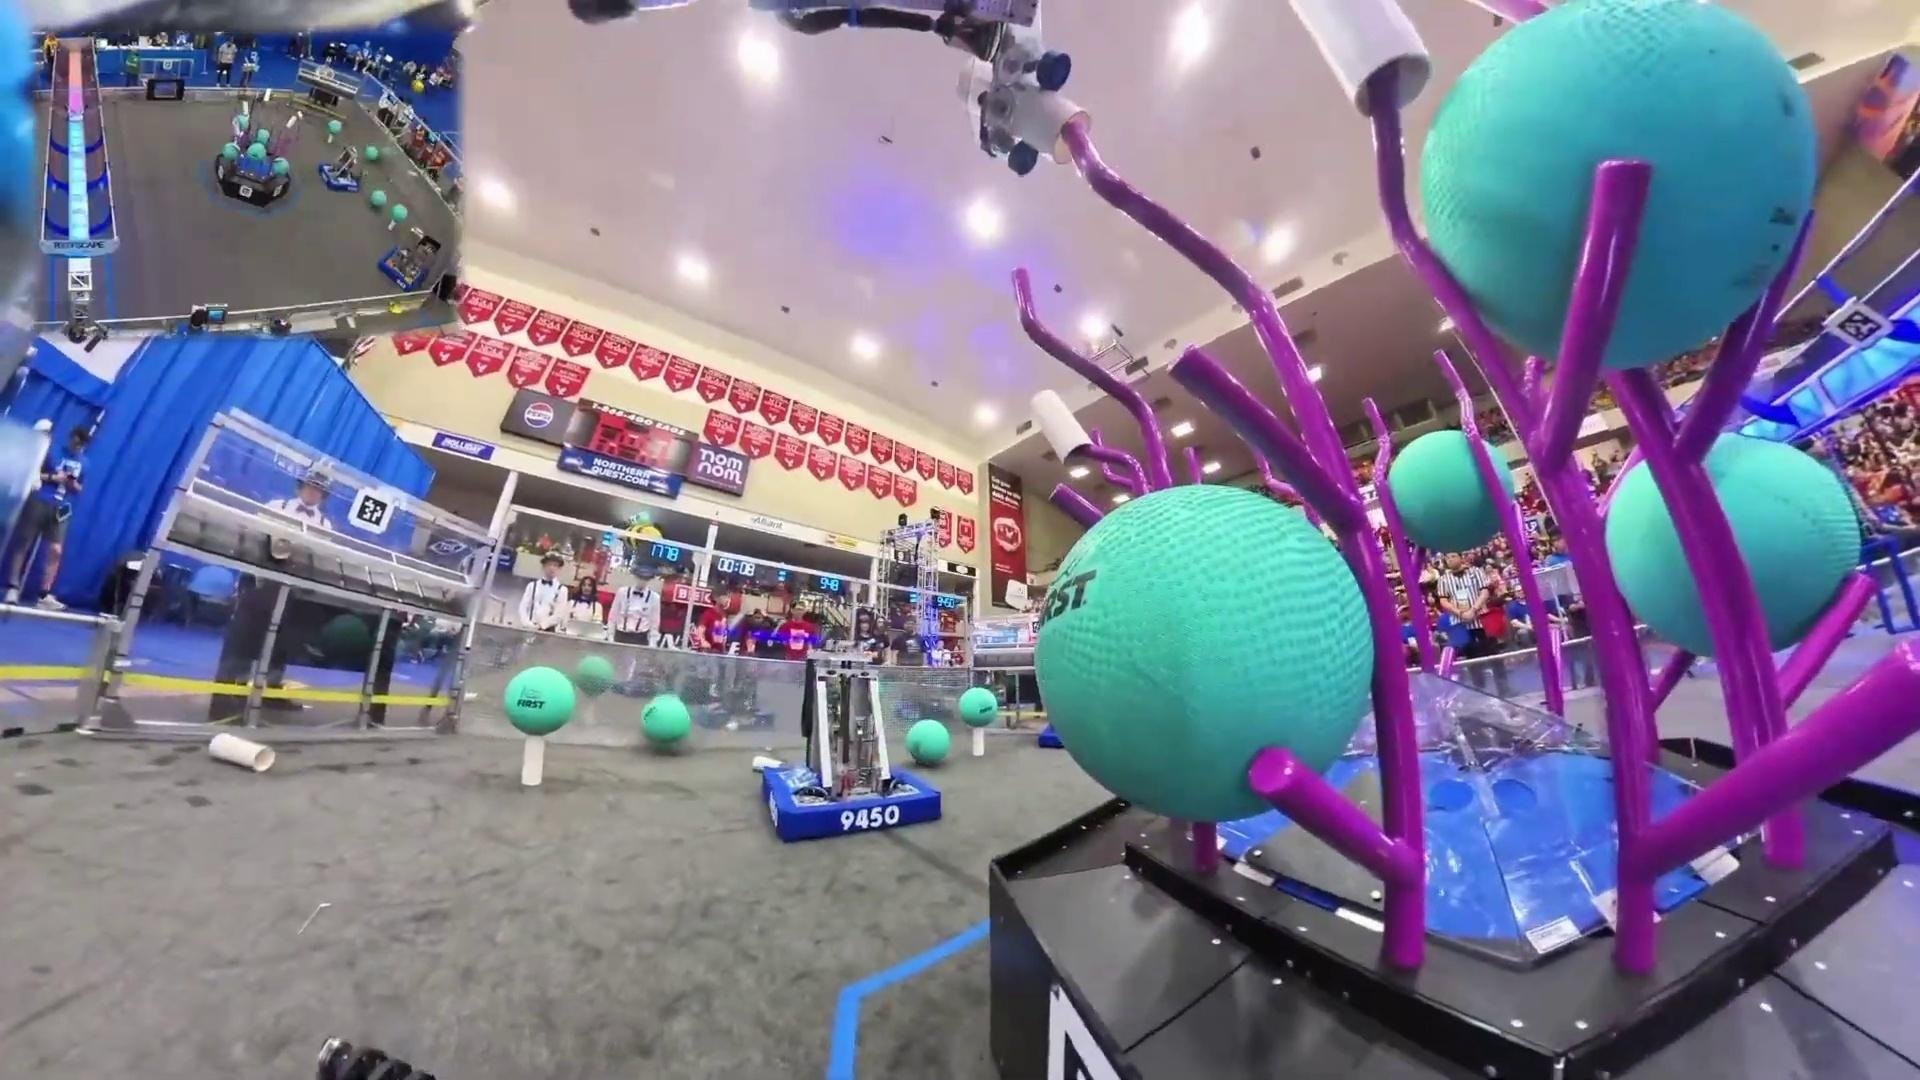robot: (761, 650, 942, 841), (378, 225, 431, 291), (318, 144, 361, 191), (1038, 720, 1065, 750)
